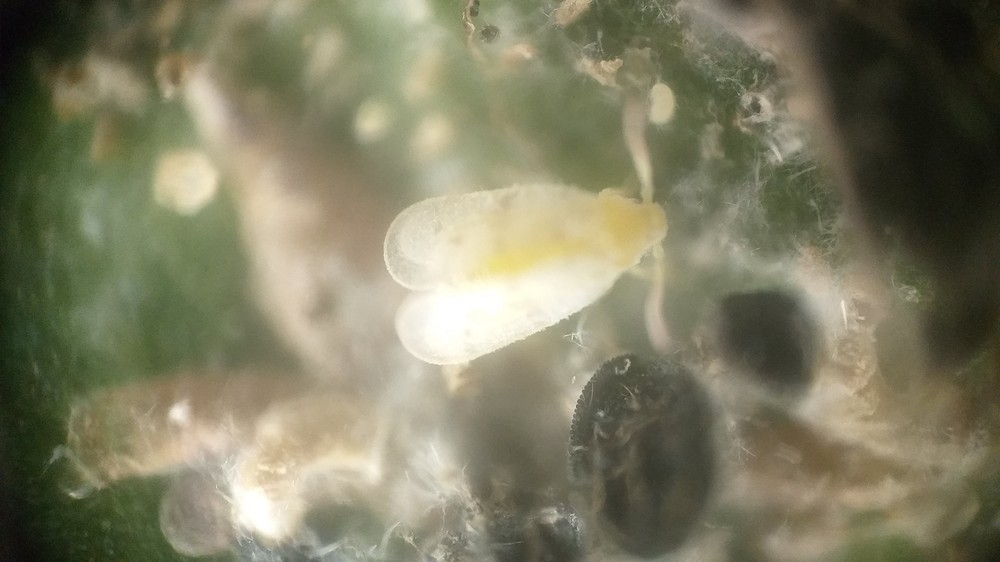Mosca Blanca: (373, 101, 713, 388)
